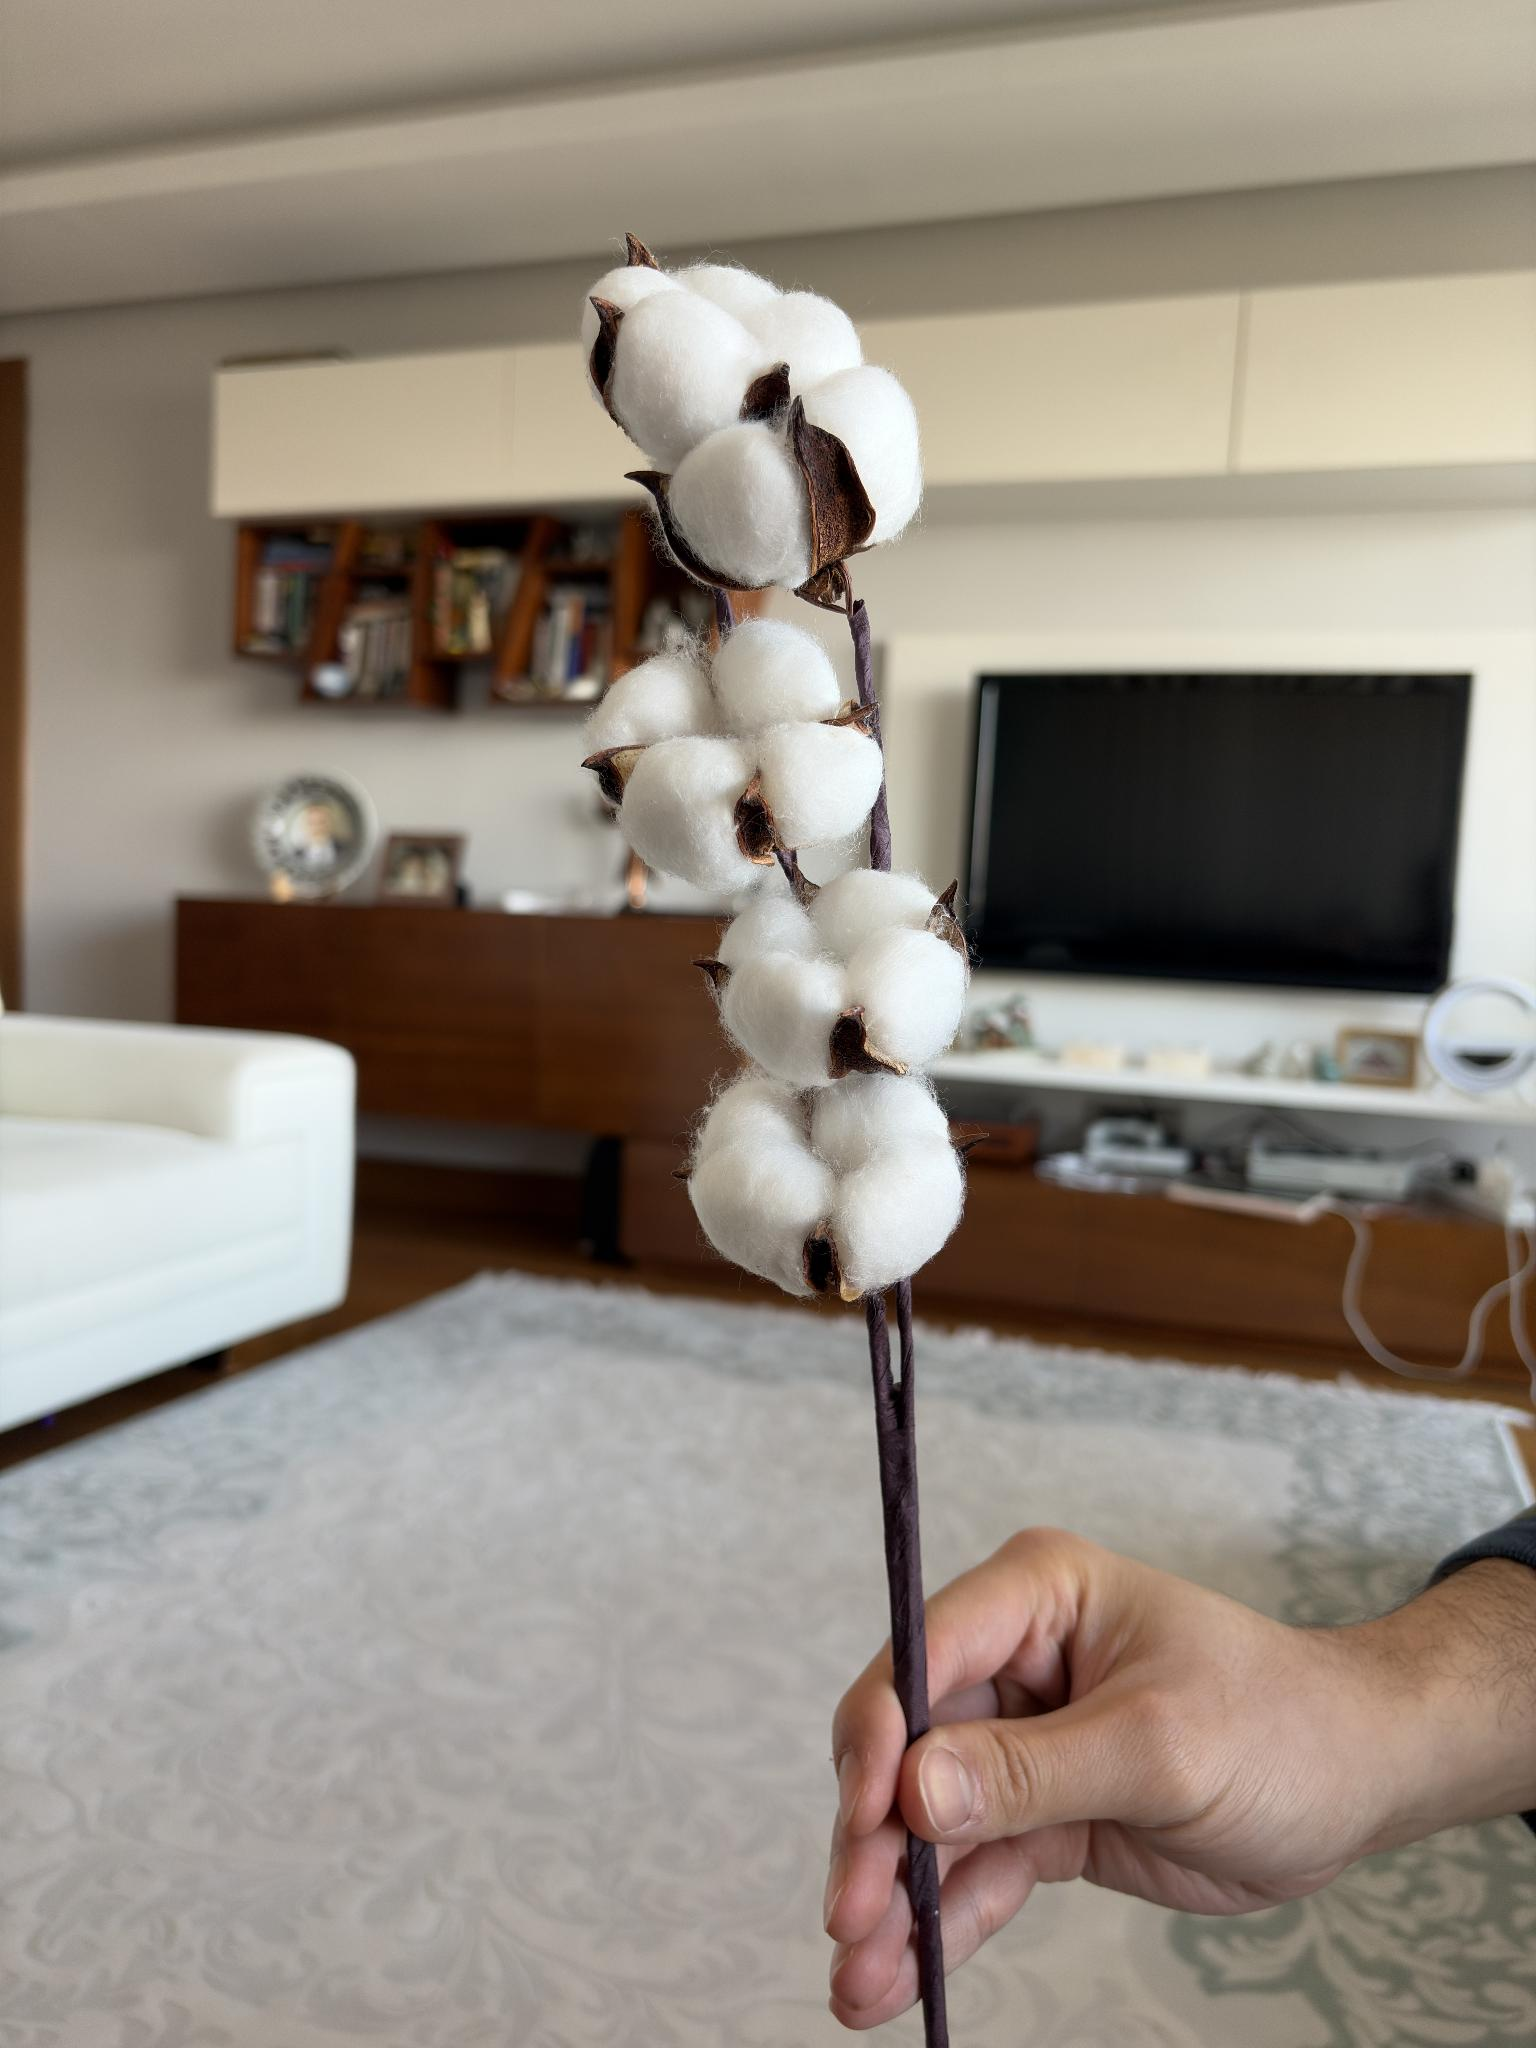cotton_boll: (608, 289, 768, 472), (666, 424, 810, 590), (829, 1129, 963, 1298), (689, 1140, 833, 1297), (620, 735, 762, 893), (805, 366, 921, 540), (720, 951, 850, 1087), (844, 927, 966, 1071), (757, 721, 883, 848), (712, 619, 842, 734), (810, 1072, 949, 1172), (586, 650, 718, 751), (742, 292, 863, 393), (810, 869, 934, 961), (692, 1076, 808, 1168), (581, 264, 681, 356), (718, 892, 821, 969), (676, 263, 781, 321)
cotton_boll-cluster: (571, 247, 945, 601), (582, 616, 887, 892), (671, 1068, 978, 1303), (700, 853, 979, 1092)
